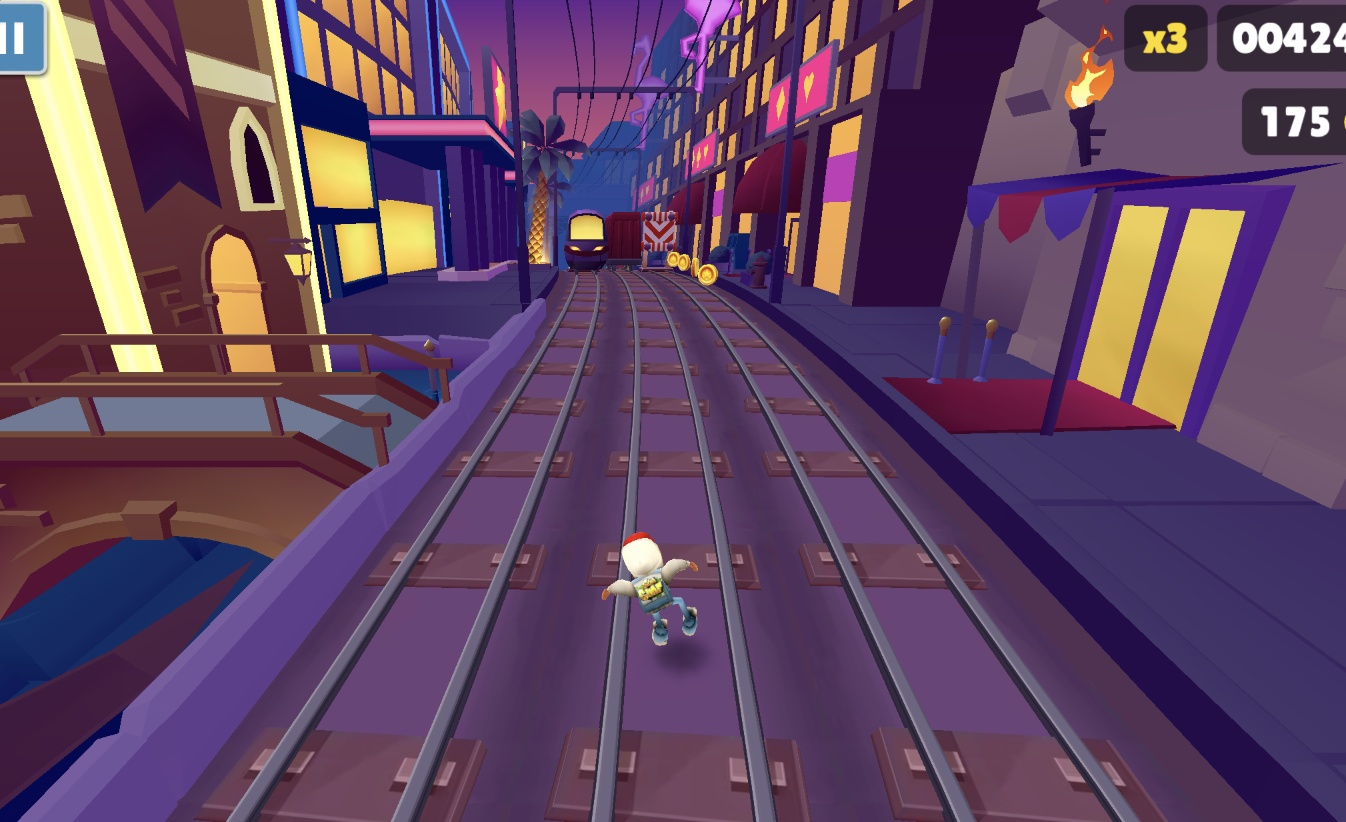overhead_barrier: (640, 211, 678, 272)
train: (564, 209, 609, 272), (607, 211, 645, 270)
